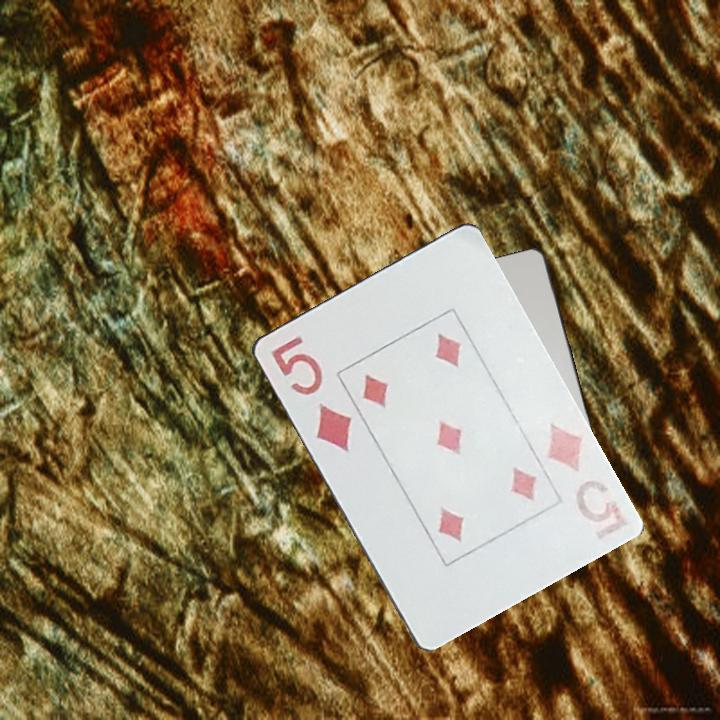5d: (267, 332, 357, 455), (542, 419, 618, 526)
